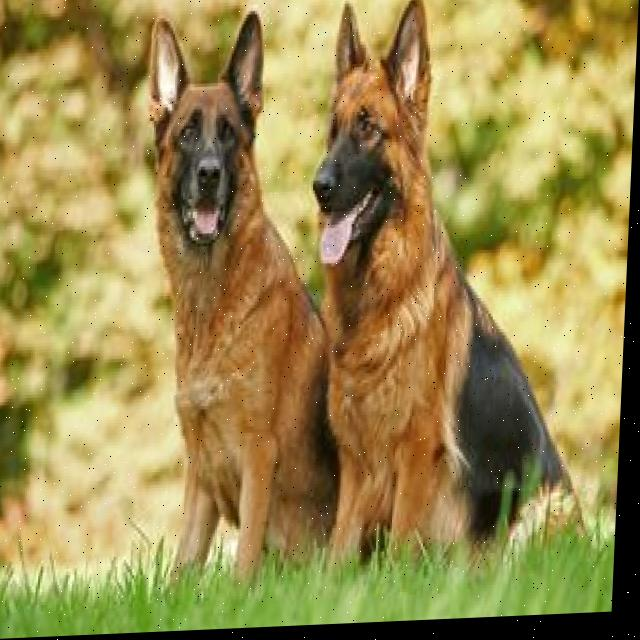GERMAN_SHEPHERD: (300, 0, 611, 599), (117, 7, 349, 604)
